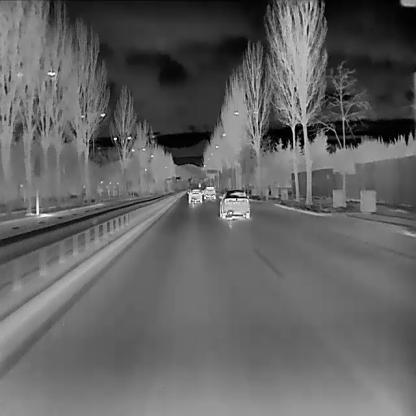car: (218, 189, 250, 220), (187, 186, 203, 203), (203, 185, 216, 199)
